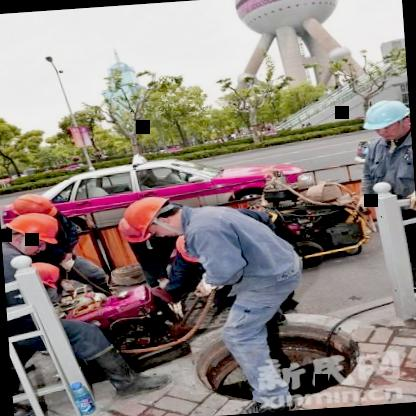helmet: (117, 190, 189, 248), (0, 206, 67, 249), (360, 96, 412, 143), (11, 190, 58, 223)
